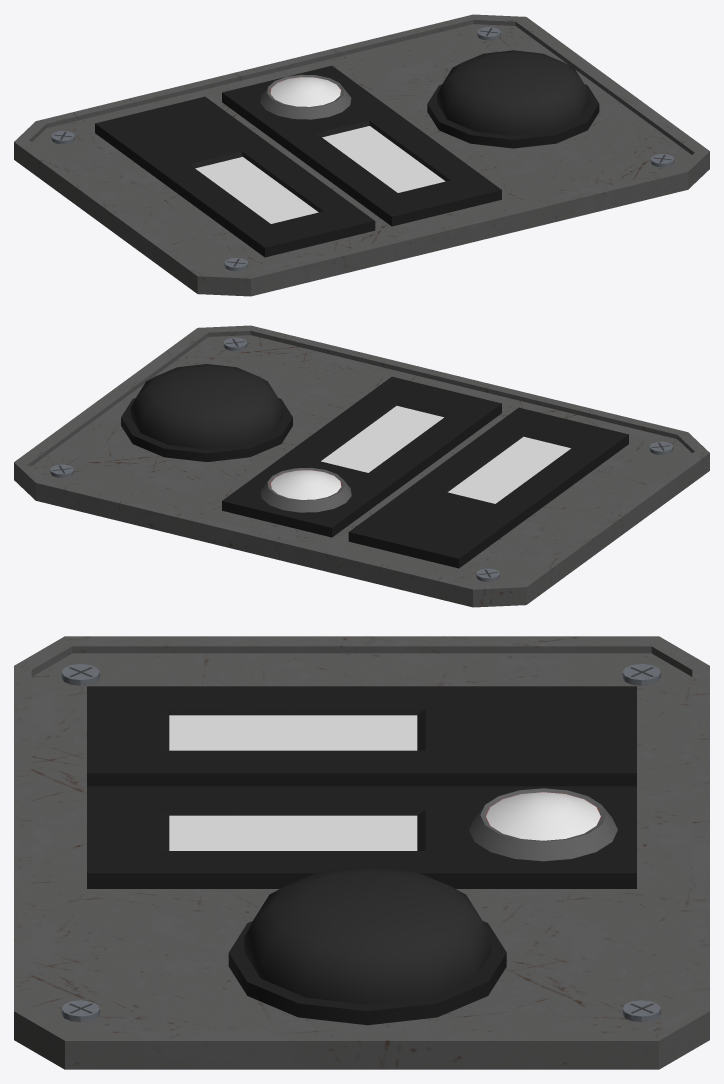
The model's file is Com_Panel.fbx.
The picture shows the model from 3 angles, top to bottom: view 1: azimuth 30°, elevation 25°; view 2: azimuth 150°, elevation 25°; view 3: azimuth 270°, elevation 25°; orthographic projection. The views are drawn at different scales.
Parts seen in each view (by area): view 1: Panel_Comunicacion, Indicador_Pantalla.000, Indicador_Pantalla.001, Altavoz_Comunicacion, Indicador_Pantalla.002; view 2: Panel_Comunicacion, Indicador_Pantalla.000, Indicador_Pantalla.001, Altavoz_Comunicacion, Indicador_Pantalla.002; view 3: Panel_Comunicacion, Indicador_Pantalla.000, Indicador_Pantalla.001, Altavoz_Comunicacion, Indicador_Pantalla.002, Tornillos.004, Tornillos.005, Tornillos.007, Tornillos.006.
Part boxes in pixels (box(x1,y1,x2,y2)): Panel_Comunicacion: box(14, 14, 709, 296); Indicador_Pantalla.000: box(95, 96, 375, 257); Indicador_Pantalla.001: box(222, 65, 501, 226); Altavoz_Comunicacion: box(427, 50, 599, 148); Indicador_Pantalla.002: box(260, 74, 351, 119); Panel_Comunicacion: box(14, 325, 709, 607); Indicador_Pantalla.000: box(348, 407, 628, 568); Indicador_Pantalla.001: box(222, 376, 501, 537); Altavoz_Comunicacion: box(121, 364, 292, 461); Indicador_Pantalla.002: box(260, 468, 351, 512); Panel_Comunicacion: box(14, 636, 709, 1069); Indicador_Pantalla.000: box(87, 686, 636, 786); Indicador_Pantalla.001: box(87, 786, 636, 888); Altavoz_Comunicacion: box(228, 866, 506, 1025); Indicador_Pantalla.002: box(469, 788, 617, 861); Tornillos.004: box(61, 1000, 99, 1022); Tornillos.005: box(622, 1000, 660, 1022); Tornillos.007: box(622, 664, 660, 685); Tornillos.006: box(61, 664, 99, 685).
Bounding box in the file's own units: 30 × 3.25 × 21.8.
